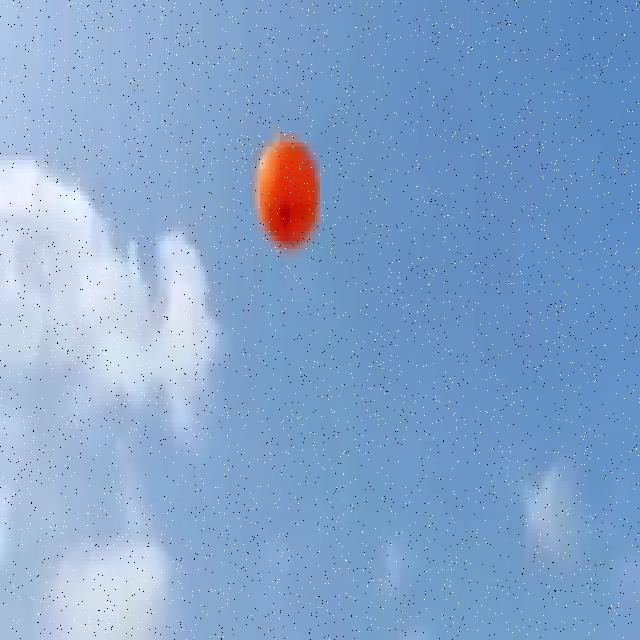red: (254, 131, 319, 251)
